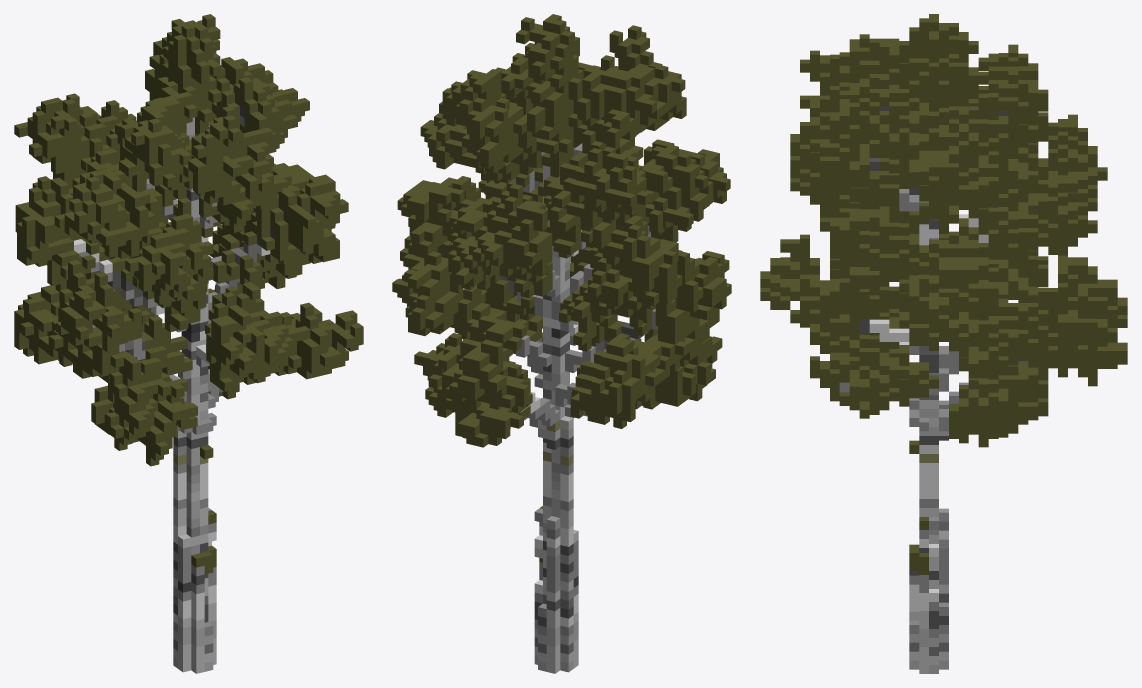
The model's file is PixelTree3.fbx.
3 renders of one model, left to right at view 1: azimuth 30°, elevation 25°; view 2: azimuth 150°, elevation 25°; view 3: azimuth 270°, elevation 25°, orthographic.
Visible parts, largest first — view 1: birch tree 01; view 2: birch tree 01; view 3: birch tree 01.
Part boxes in pixels (<box>): birch tree 01: <box>14,14,363,673</box>; birch tree 01: <box>392,14,731,673</box>; birch tree 01: <box>760,14,1127,673</box>.
Size of the model in its own units: 3500 by 7200 by 3700.
